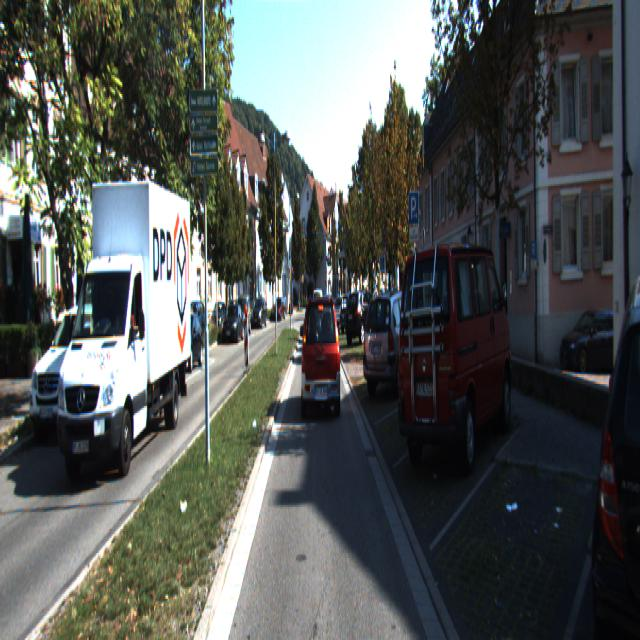Car: (52, 178, 193, 484), (396, 237, 516, 488), (592, 258, 640, 638), (29, 301, 127, 438), (364, 288, 436, 398), (118, 306, 174, 398), (558, 307, 636, 372), (302, 297, 342, 422), (79, 307, 122, 382), (345, 290, 384, 345), (168, 314, 204, 372), (338, 294, 364, 336), (222, 303, 245, 344), (235, 293, 252, 338), (251, 297, 268, 328), (272, 298, 288, 322)
